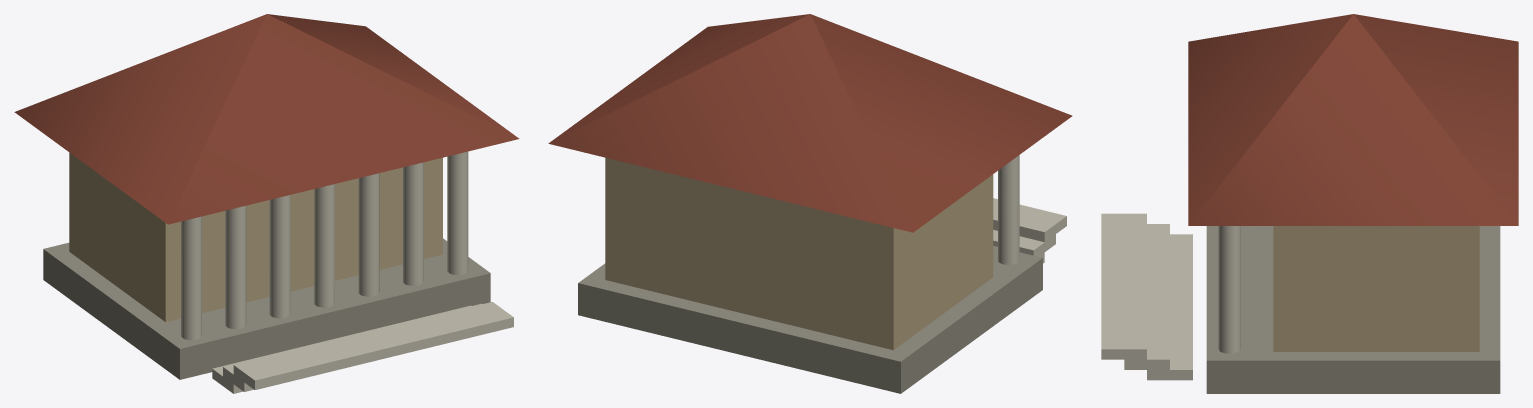
Rendered from custom-wonder-kutuphane.glb.
3 views of the same model, side by side, from view 1: azimuth 30°, elevation 25°; view 2: azimuth 150°, elevation 25°; view 3: azimuth 270°, elevation 25° (orthographic). The views are drawn at different scales.
Visible parts, largest first — view 1: custom-wonder-kutuphane; view 2: custom-wonder-kutuphane; view 3: custom-wonder-kutuphane.
Boxes of the visible parts, box(x1,y1,x2,y2) form: custom-wonder-kutuphane: box(14, 14, 519, 393); custom-wonder-kutuphane: box(548, 14, 1072, 393); custom-wonder-kutuphane: box(1101, 14, 1518, 393).
Bounding box in the file's own units: 1 × 0.7557 × 0.9578.
